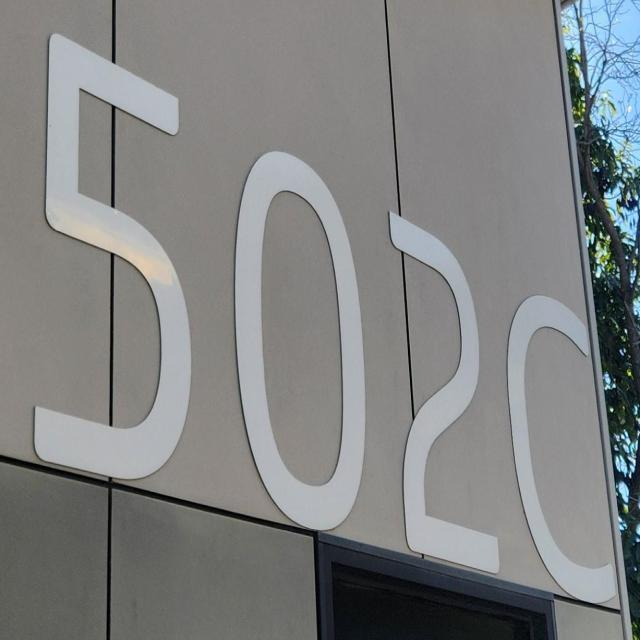character: (30, 29, 198, 483), (230, 146, 370, 534), (387, 206, 502, 580), (504, 292, 620, 607)
